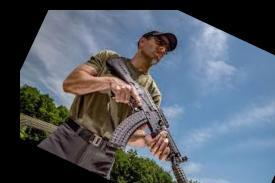larga: (106, 58, 189, 183)
